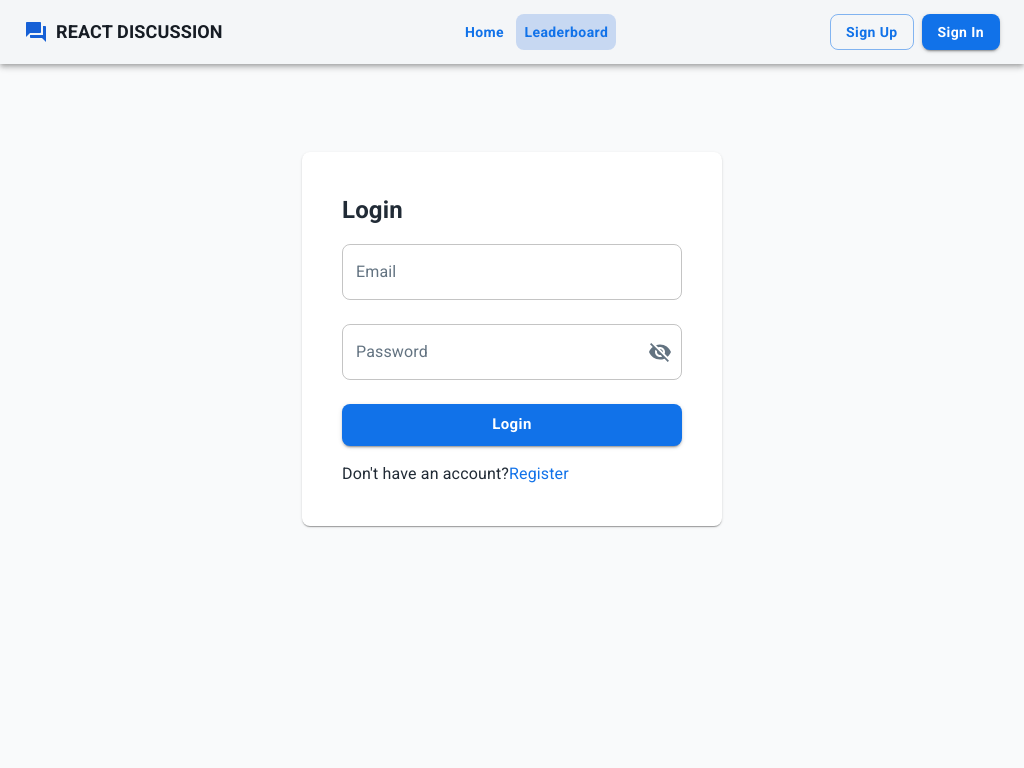
Test case: Login spec › should display error message when email is not valid
The width and height of the screenshot is (1024, 768).
In the field named "email": (512, 272) [342,244,682,300], type "anis"
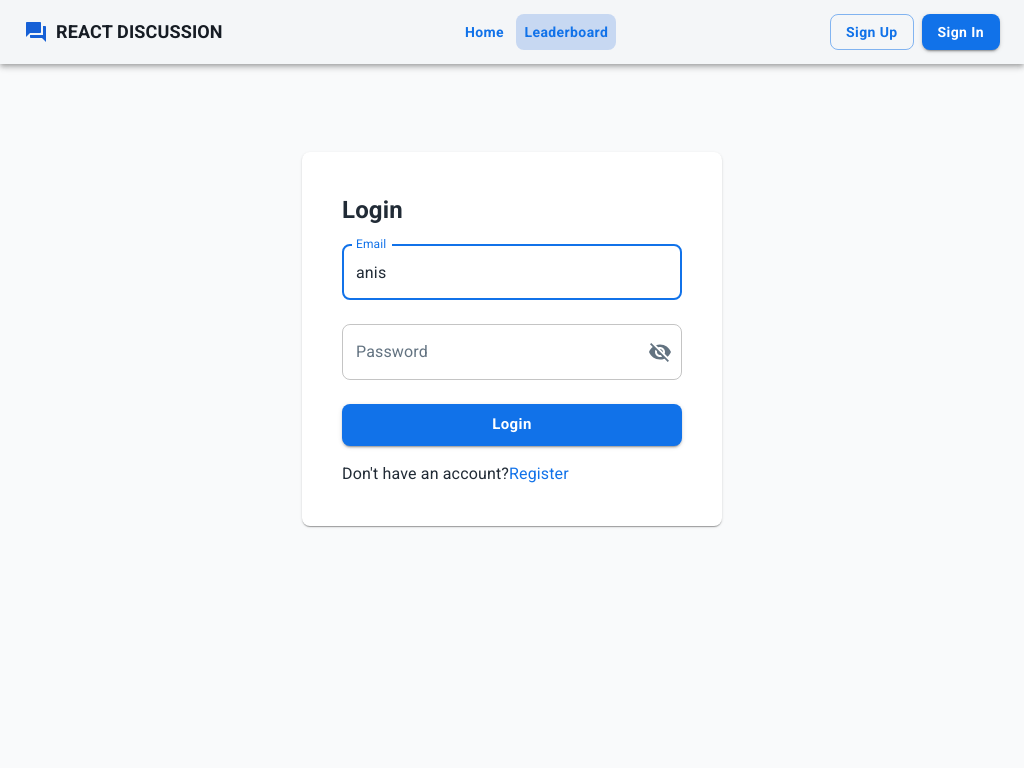
In the password field named "password": (487, 352) [342,324,632,380], type "password"
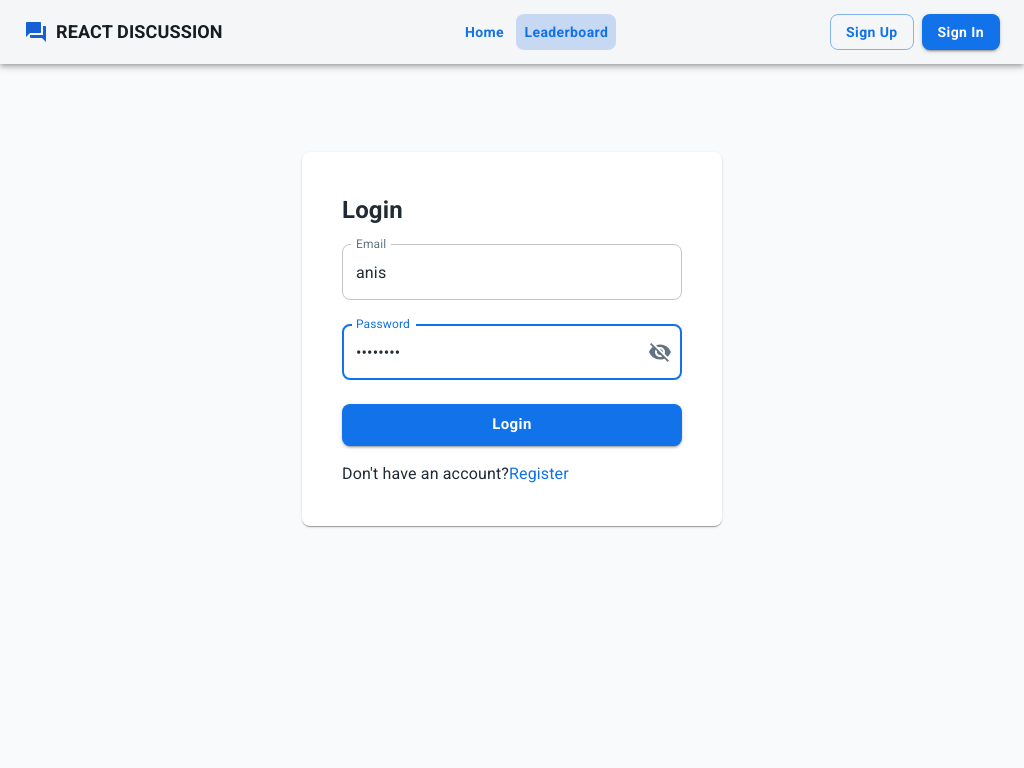
Click the button "Login": click(512, 425) [342,404,682,446]
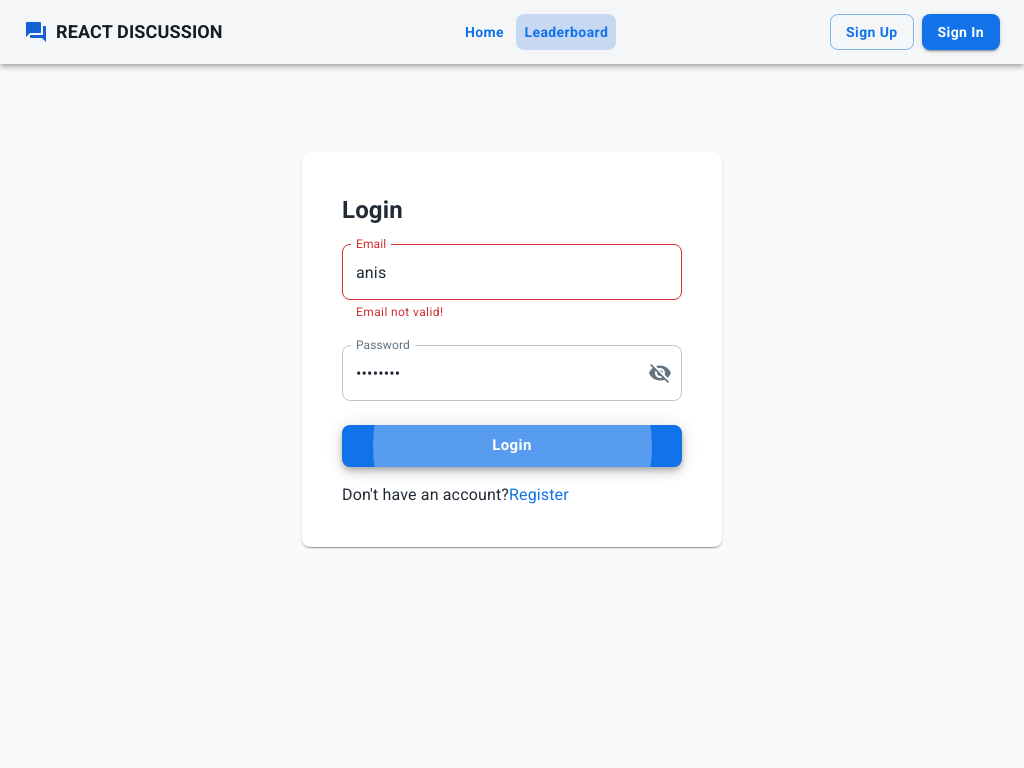
Now the text "Email not valid!" is shown, box [356,305,443,319]
